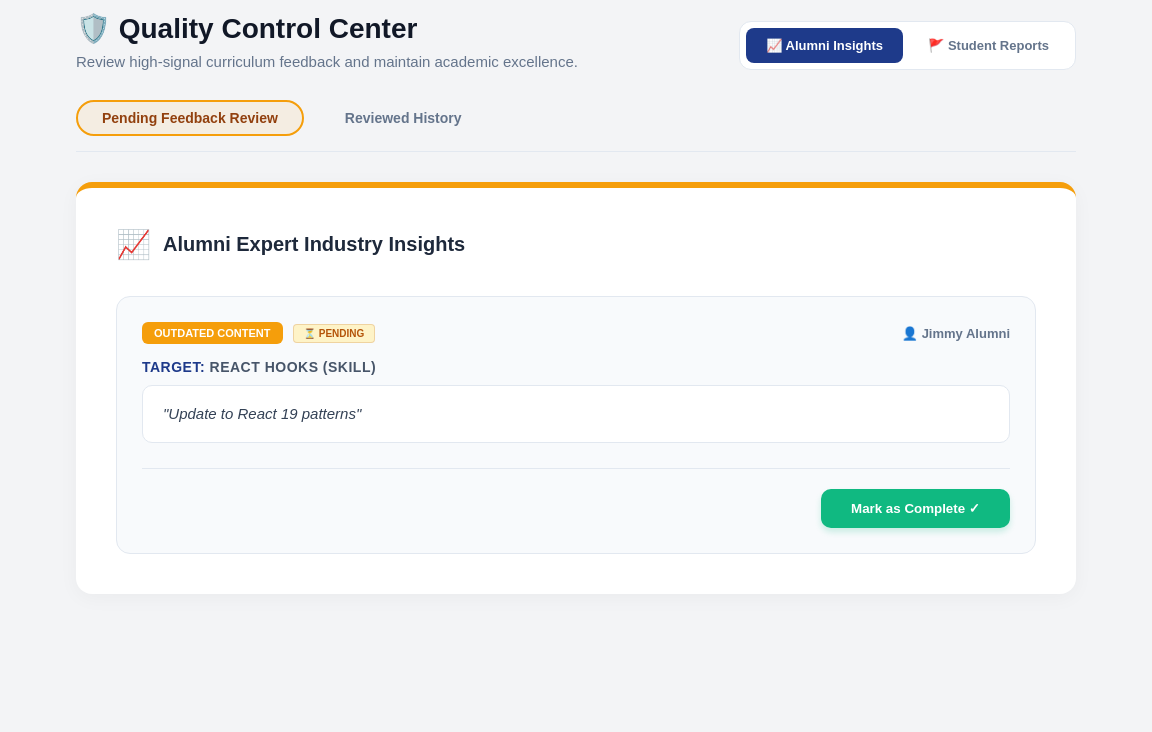
Test: AdminQualityControl Component › marking a feedback as complete updates the UI immediately
// Execute Resolve Action
Step 1. Click the button "Mark as Complete ✓" → (916, 508), box [821, 488, 1010, 528]
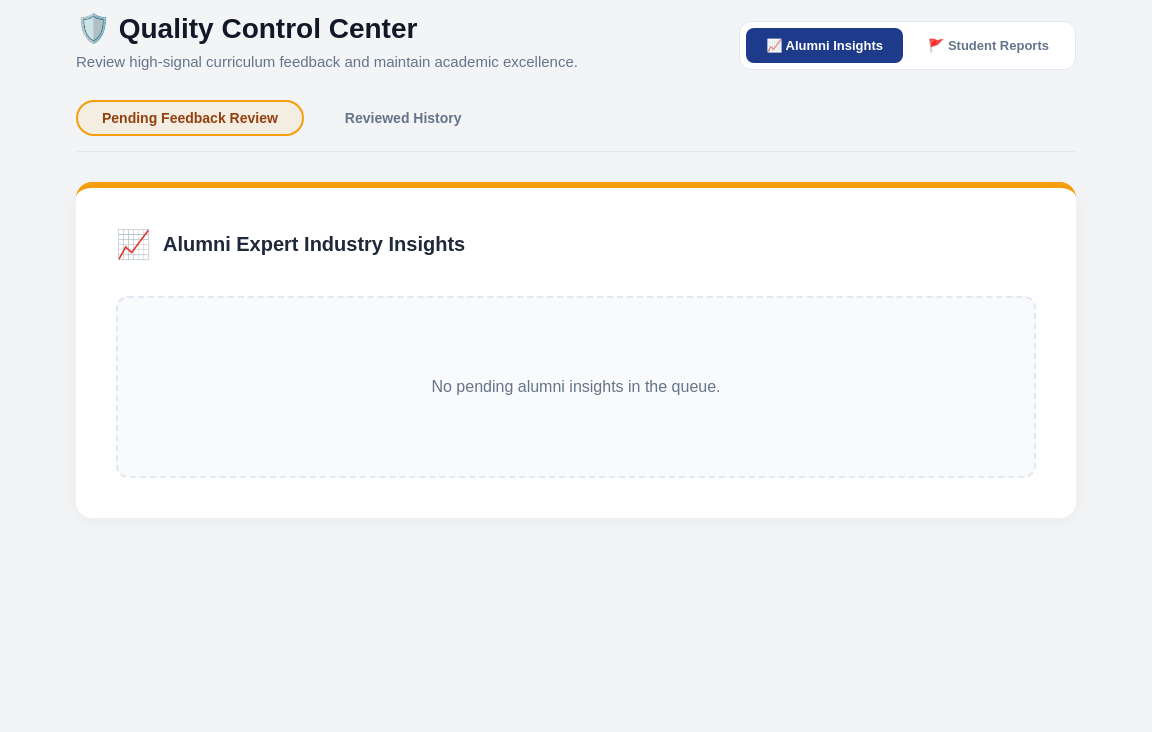
expect the text "Jimmy Alumni" is gone: met
// Switch to history tab to verify he moved there
Step 2. Click the button "Reviewed History" → (403, 118), box [319, 100, 488, 136]
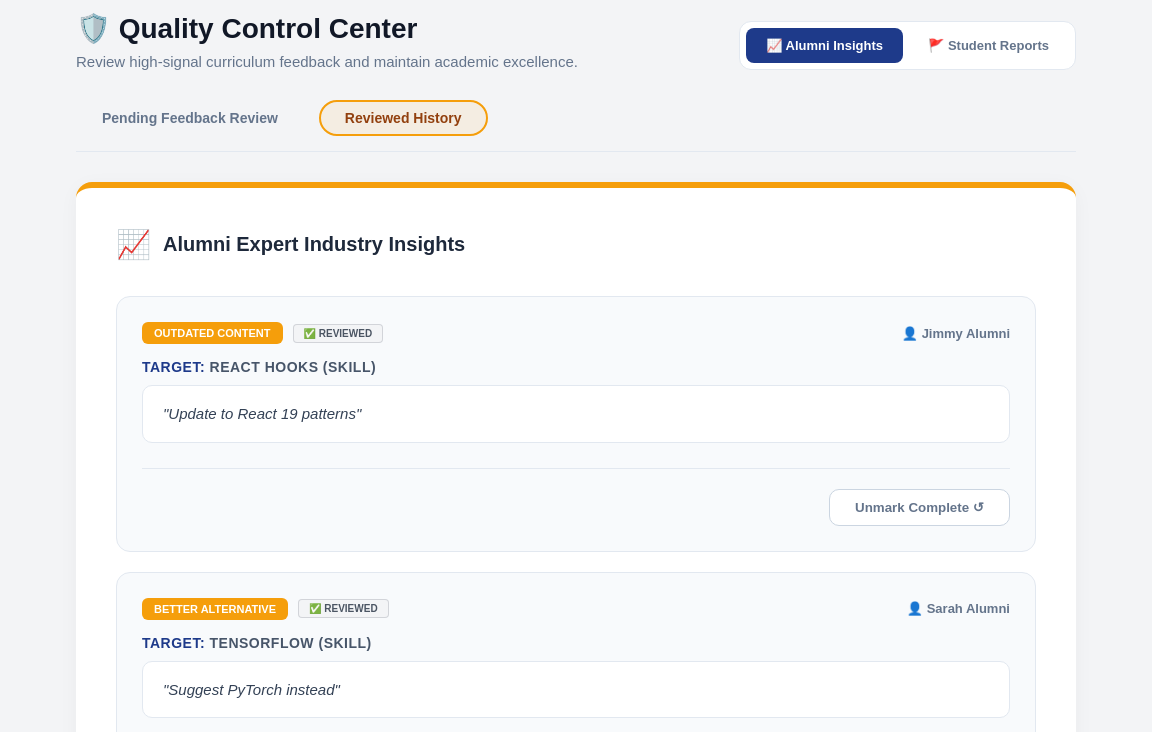
expect the text "👤 Jimmy Alumni" is shown: met, box [902, 326, 1010, 340]
